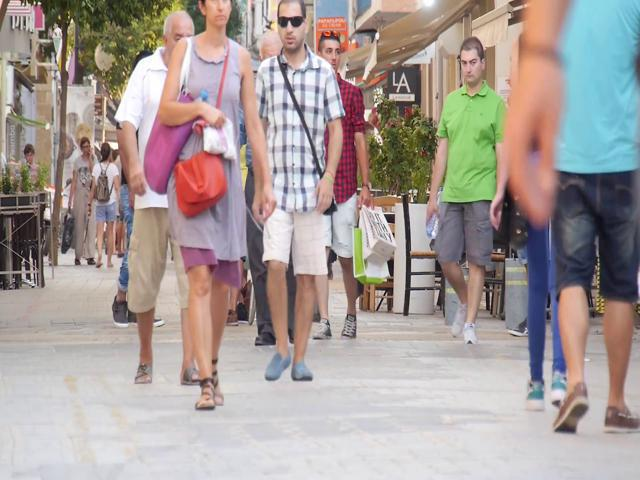shoe: (553, 382, 589, 432), (604, 405, 639, 433), (265, 351, 291, 380), (195, 378, 215, 410), (525, 380, 545, 410), (450, 302, 467, 337), (111, 295, 129, 328), (291, 360, 313, 381), (180, 365, 201, 385), (313, 319, 332, 340), (341, 313, 356, 339), (135, 363, 153, 384), (255, 331, 276, 345), (463, 323, 476, 344)
